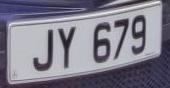6: (91, 15, 114, 69)
7: (112, 13, 131, 64)
9: (131, 11, 148, 57)
J: (30, 23, 60, 76)
Y: (55, 21, 82, 73)
